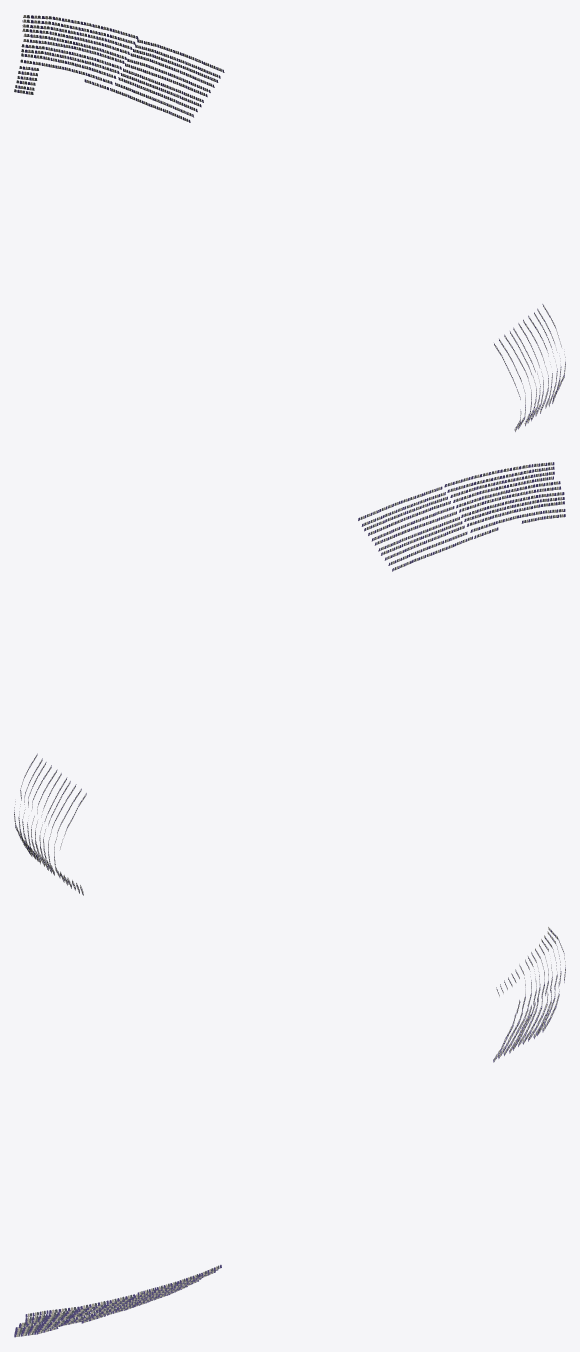
The model's file is Sitting chair front.fbx.
The picture shows the model from 3 angles, top to bottom: view 1: azimuth 30°, elevation 25°; view 2: azimuth 150°, elevation 25°; view 3: azimuth 330°, elevation 25°; orthographic projection.
Parts seen in each view (by area): view 1: Rendered_chair; view 2: Rendered_chair; view 3: Rendered_chair.
Boxes of the visible parts, x1,y1,x2,y2 form: Rendered_chair: [14, 15, 565, 431]; Rendered_chair: [14, 462, 565, 895]; Rendered_chair: [14, 927, 565, 1337].
Size of the model in its own units: 19.7 by 8.24 by 139.
1 material, 1 textured.
